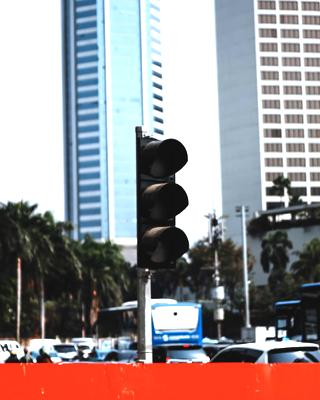International Road Signal Light: (136, 130, 188, 269)
